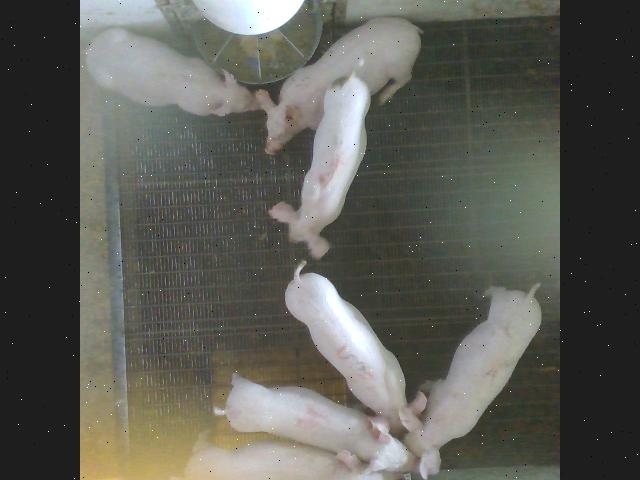pig-3: (286, 260, 406, 420)
pig-4: (214, 372, 415, 470), (269, 74, 370, 258)
